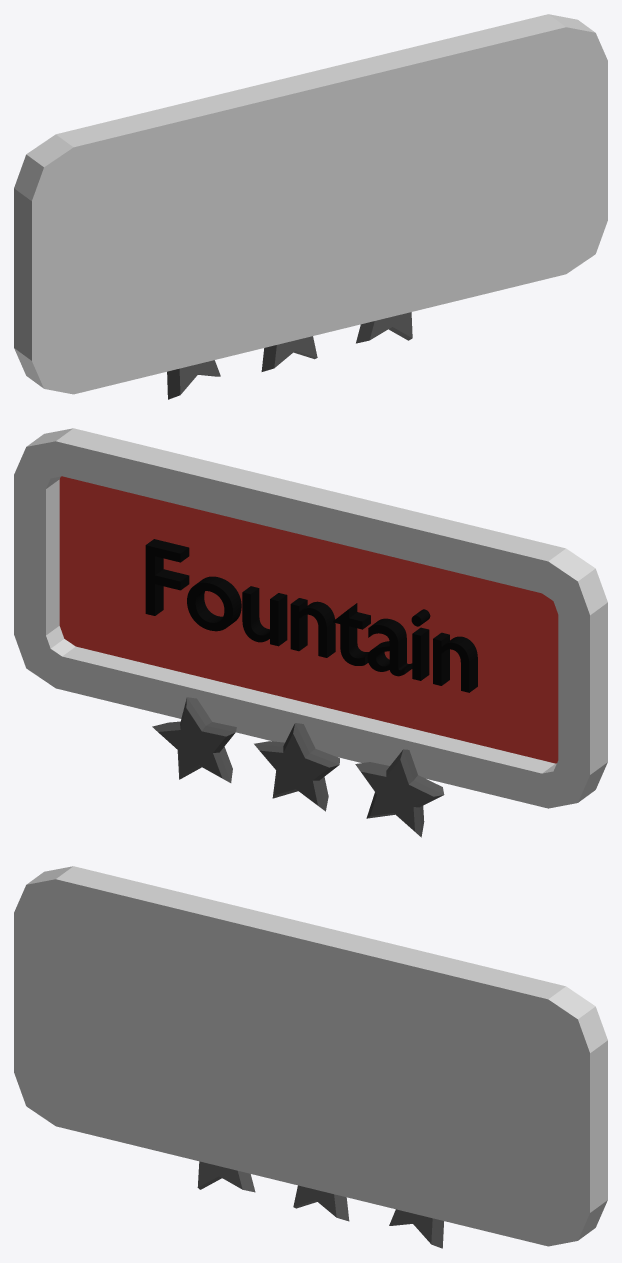
File: FountainText.fbx
3 renders of one model, top to bottom at view 1: azimuth 30°, elevation 25°; view 2: azimuth 150°, elevation 25°; view 3: azimuth 330°, elevation 25°, orthographic.
Visible parts, largest first — view 1: Cinema, Star.003, Star.004, Star.005; view 2: Cinema, Text.001, Star.005, Star.004, Star.003; view 3: Cinema, Star.004, Star.005, Star.003.
Boxes of the visible parts, box(x1,y1,x2,y2) form: Cinema: box(14, 14, 607, 394); Star.003: box(356, 312, 412, 343); Star.004: box(261, 336, 317, 371); Star.005: box(167, 360, 220, 399); Cinema: box(14, 428, 607, 808); Text.001: box(145, 539, 477, 692); Star.005: box(355, 749, 444, 837); Star.004: box(254, 723, 339, 811); Star.003: box(152, 697, 236, 782); Cinema: box(14, 866, 607, 1246); Star.004: box(293, 1185, 349, 1221); Star.005: box(197, 1161, 255, 1192); Star.003: box(389, 1209, 443, 1248).
Size of the model in its own units: 342 by 170 by 33.66.
